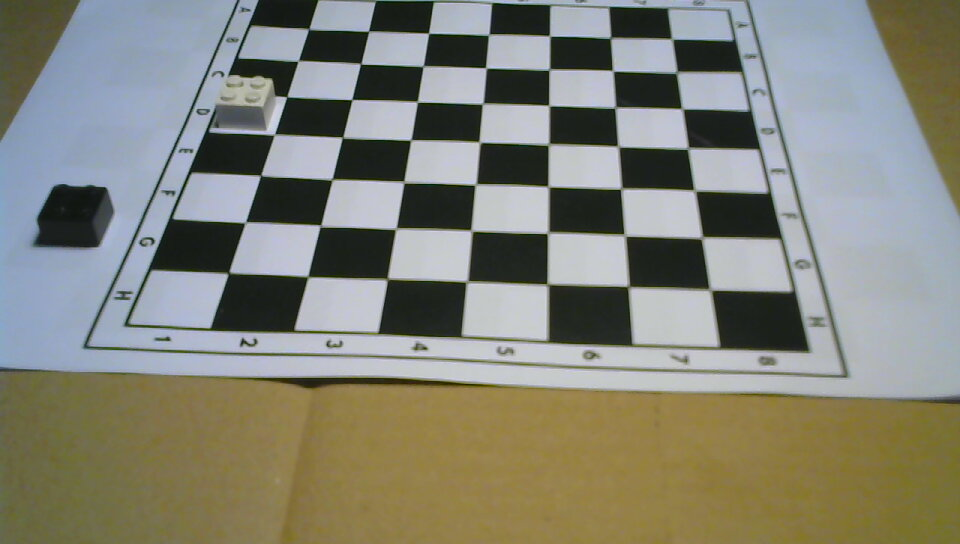bp: (37, 184, 116, 250)
wp: (217, 73, 275, 134)
